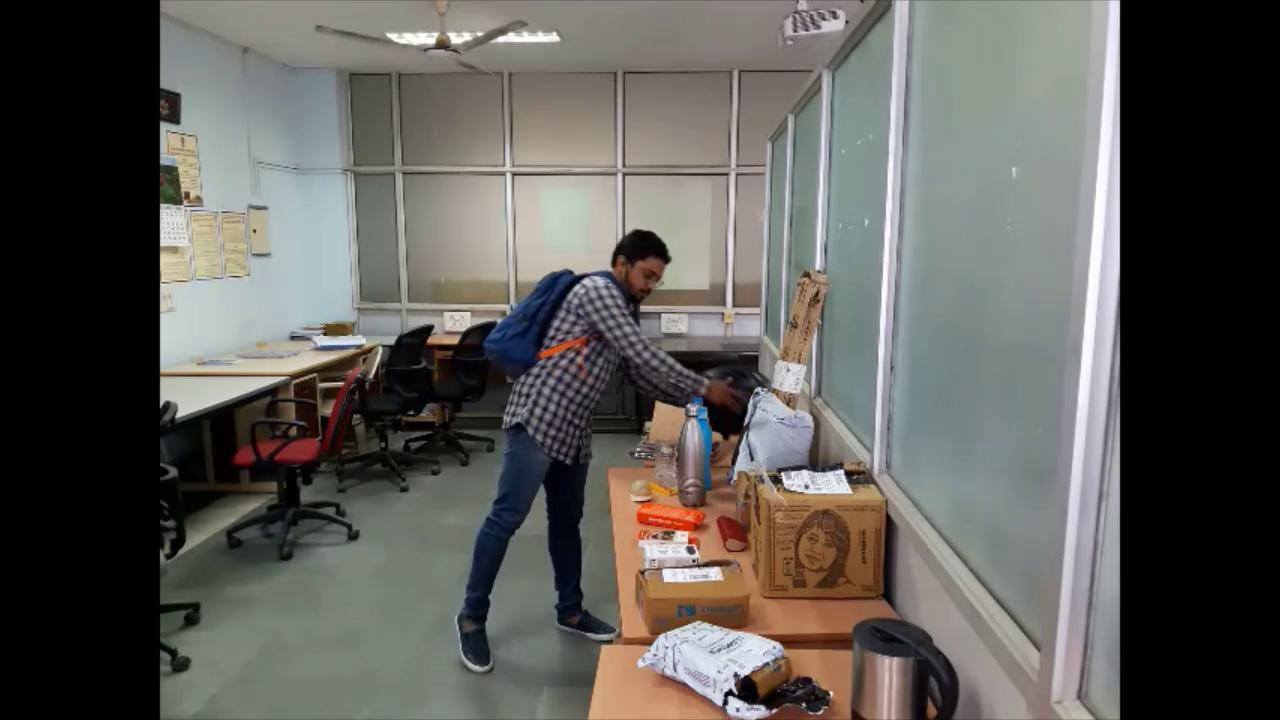Normal: (450, 209, 777, 675)
